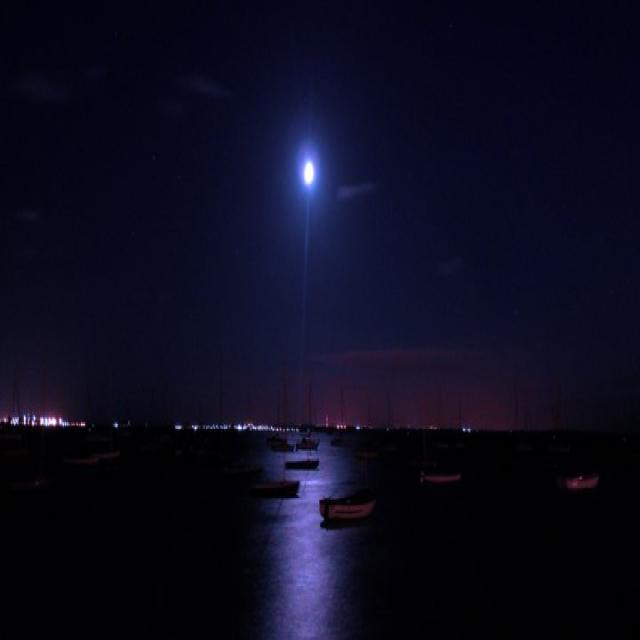Boat: (393, 468, 487, 517), (259, 400, 292, 526), (311, 480, 371, 545), (285, 416, 311, 514), (569, 465, 604, 506)
